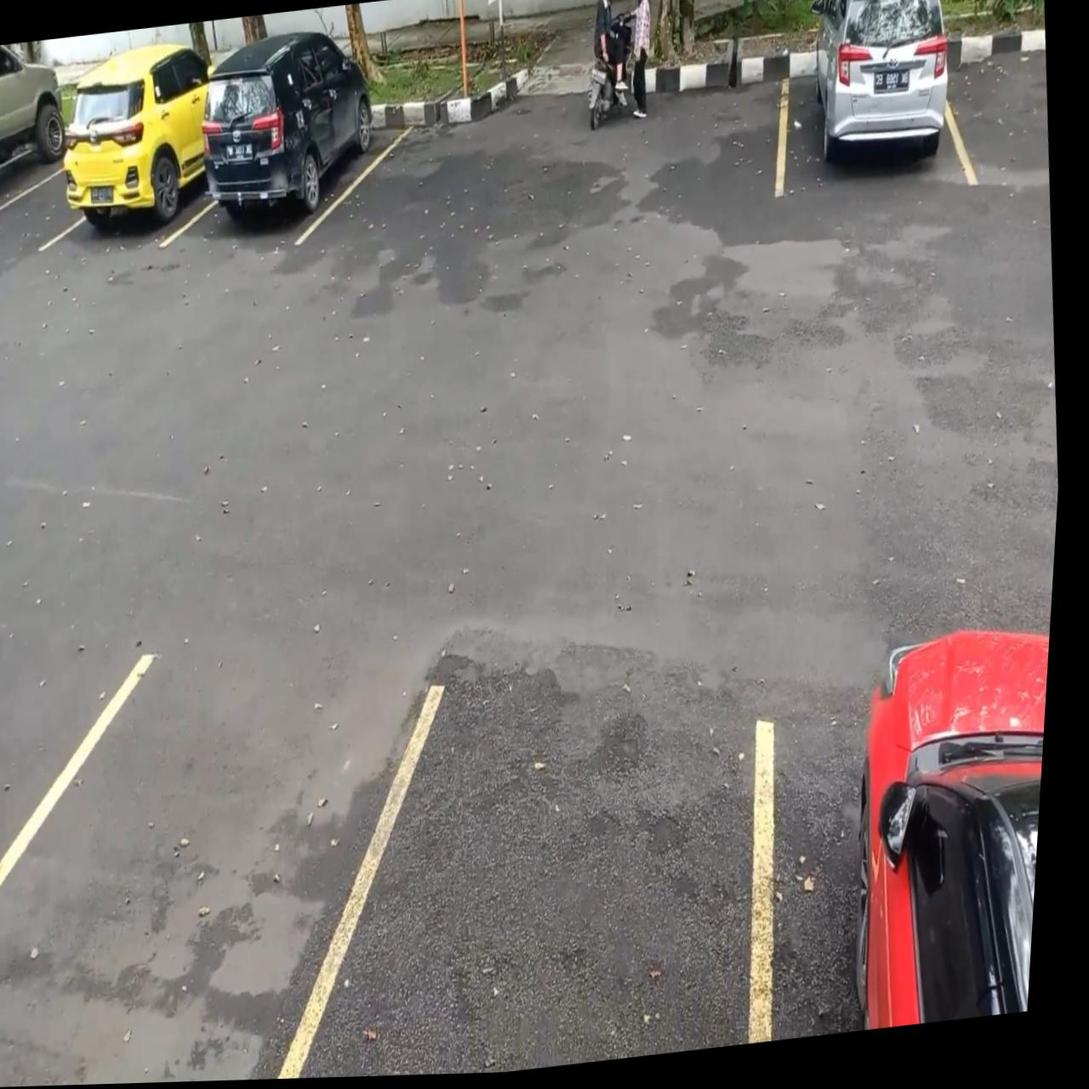cars: (42, 129, 302, 250), (163, 127, 412, 246), (779, 67, 973, 195)
empty: (285, 686, 764, 1079), (0, 660, 438, 1080), (0, 141, 181, 249)
